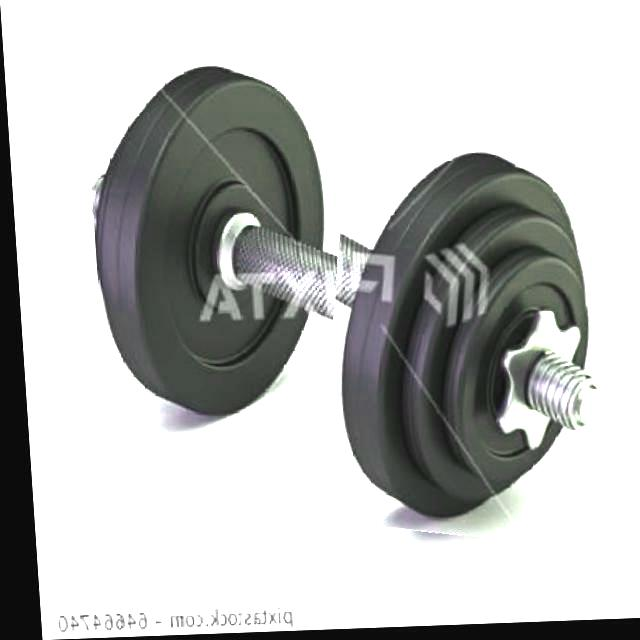barbell: (306, 133, 637, 554)
